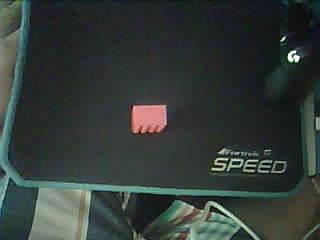lego: (131, 104, 168, 134)
